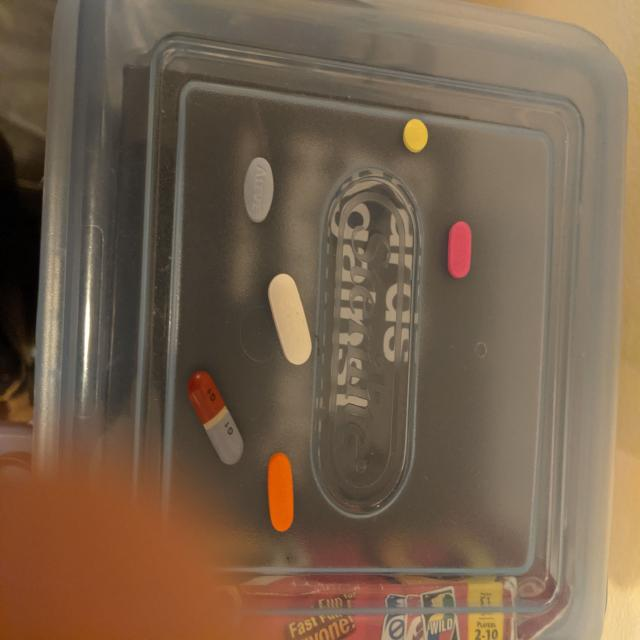non-organic waste: (187, 368, 244, 466), (268, 272, 312, 366), (265, 451, 296, 533), (243, 155, 274, 224), (447, 220, 472, 279), (402, 118, 429, 154)
